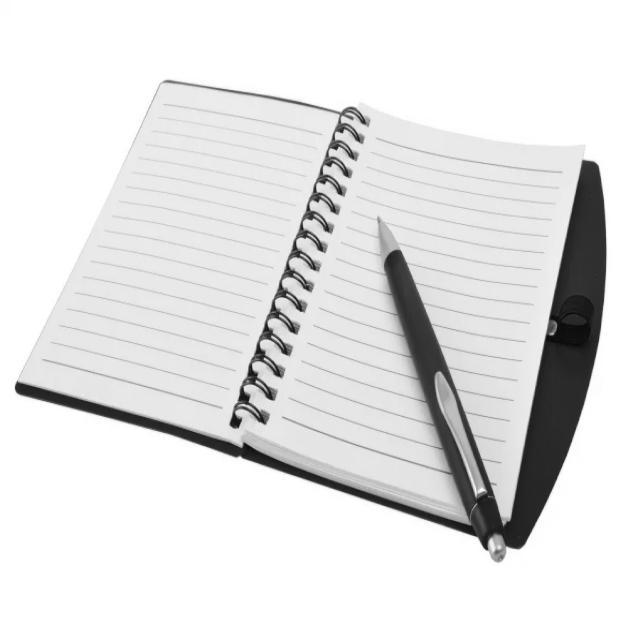pencil: (362, 216, 527, 569)
